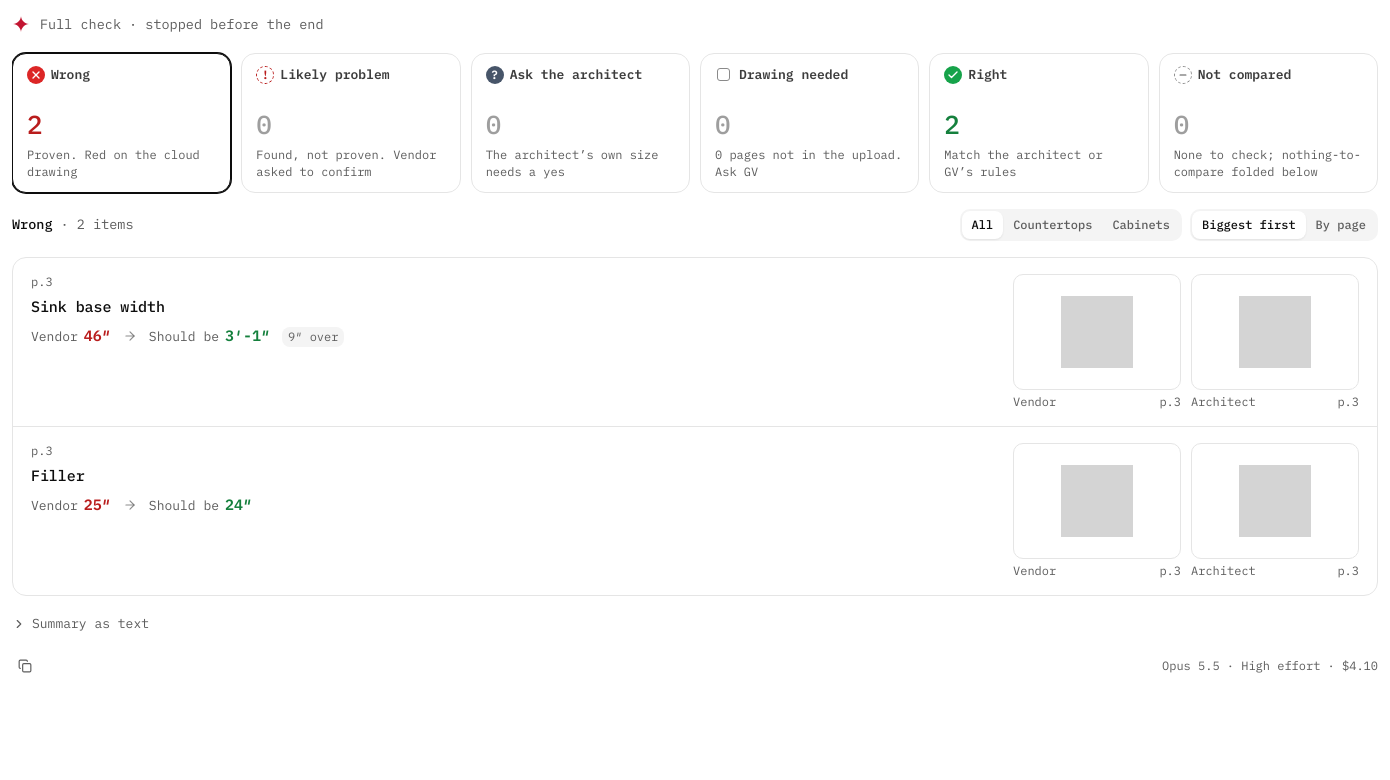
it: a full-check answer › says a stop once, on the work line, and keeps a summary GV Review wrote under "Summary as text"
Expected: the element showing "Full check · stopped before the end" is shown, [12,12,324,37]
Step 1. Click the button "Summary as text" → (80, 624), box [12,612,149,636]
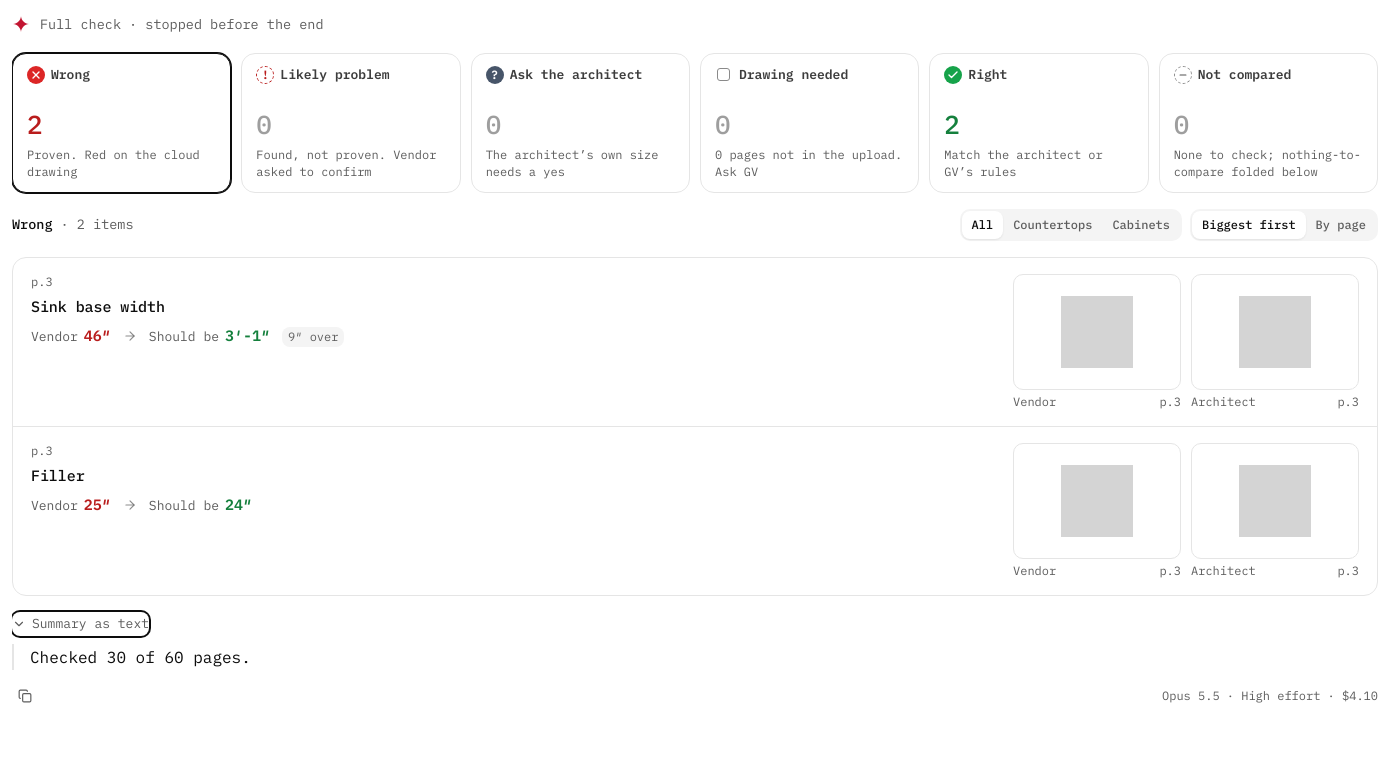
Result: the text "Checked 30 of 60 pages." is shown at [30,647,251,667]
